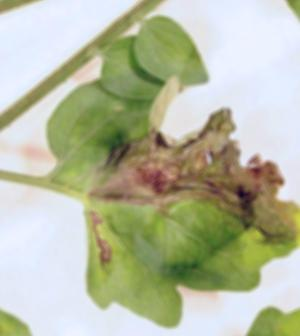Tomato leaf late blight: (36, 74, 300, 336)
